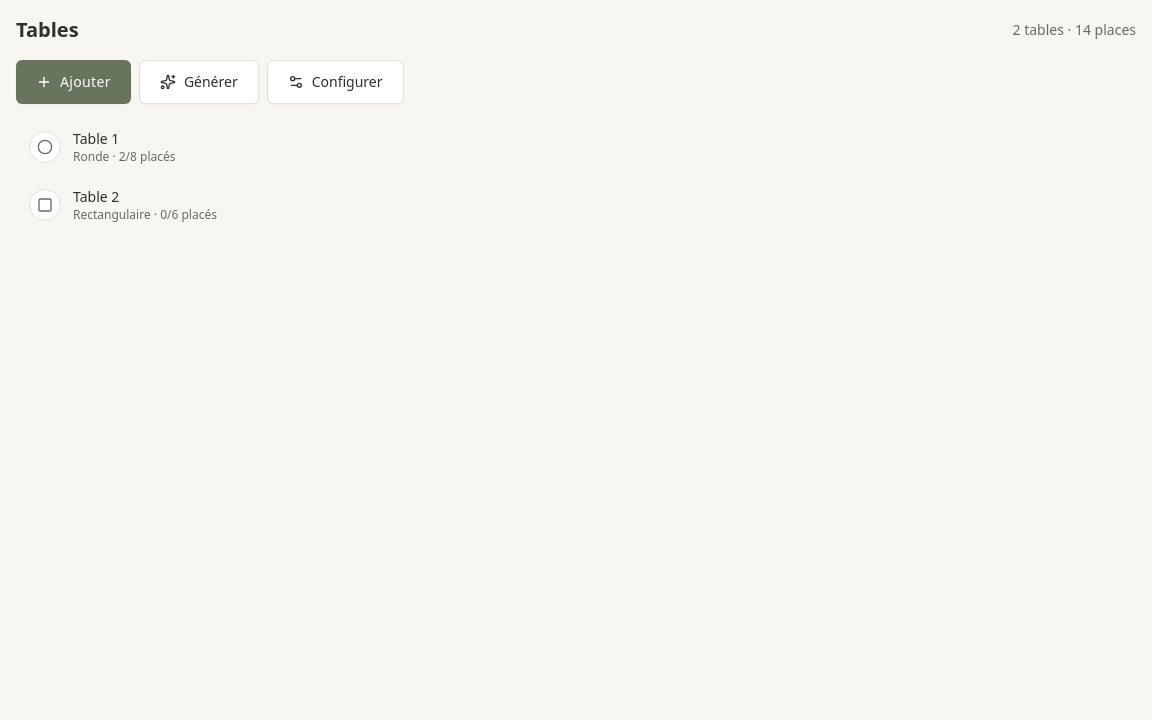
Scenario: TablesPanel › edits the selected table through the detail Configurer action
Click the button "Table 2 Rectangulaire · 0/6 placés". click: (45, 205)
box: [17,179,1087,231]
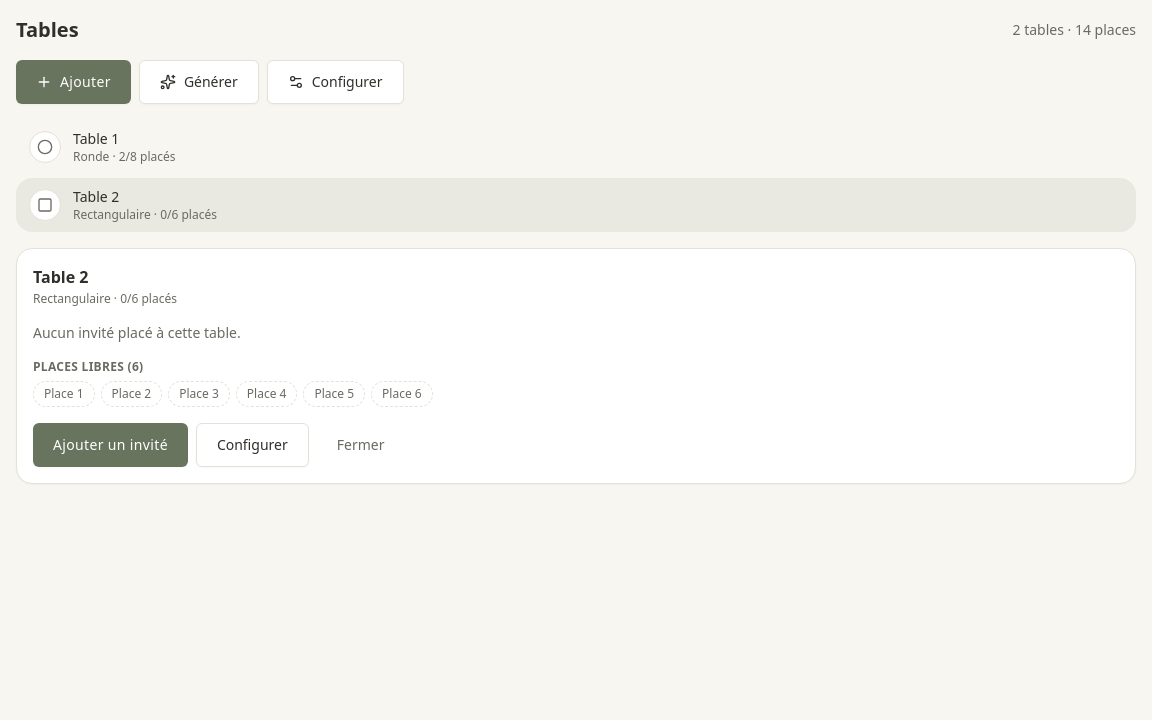
Expected: the element named "Détails de la table" is shown, [16,248,1136,484]
Click the button "Configurer" below "Place 1". click: (252, 445)
box: [196,423,309,467]
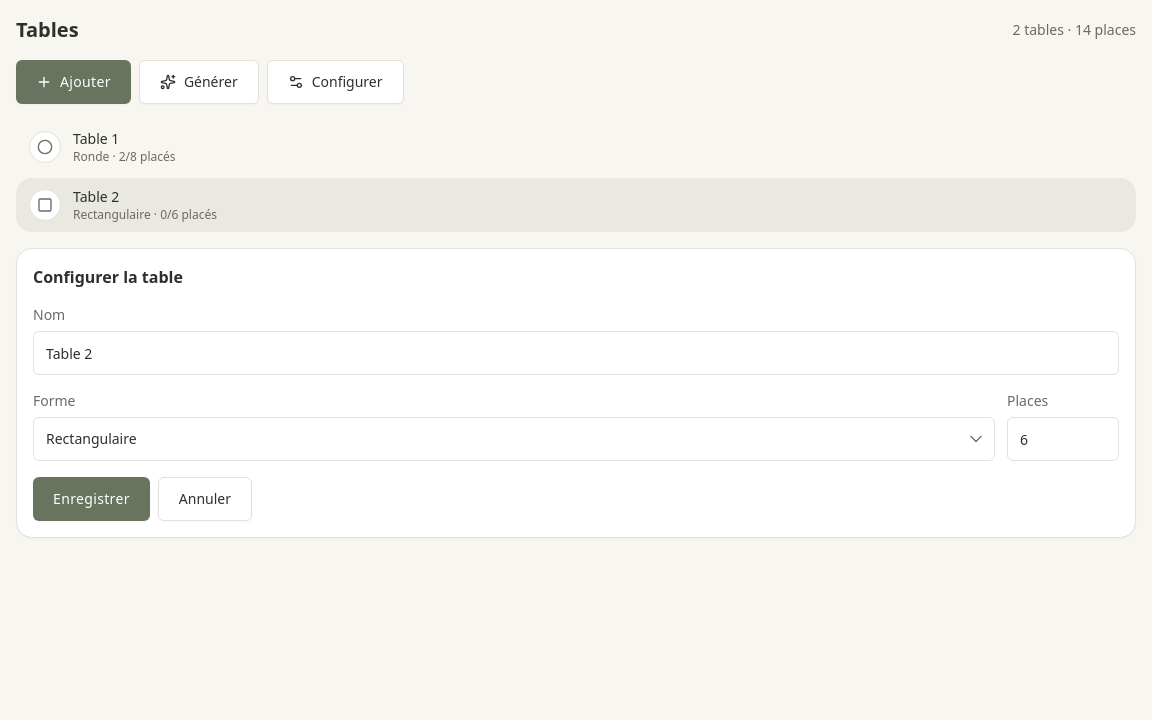
Expected: the heading "Configurer la table" is shown, [33,266,183,288]
Replace the text in the field labelled "Nom" with "Table VIP". click: (576, 353)
box: [33,331,1119,375]
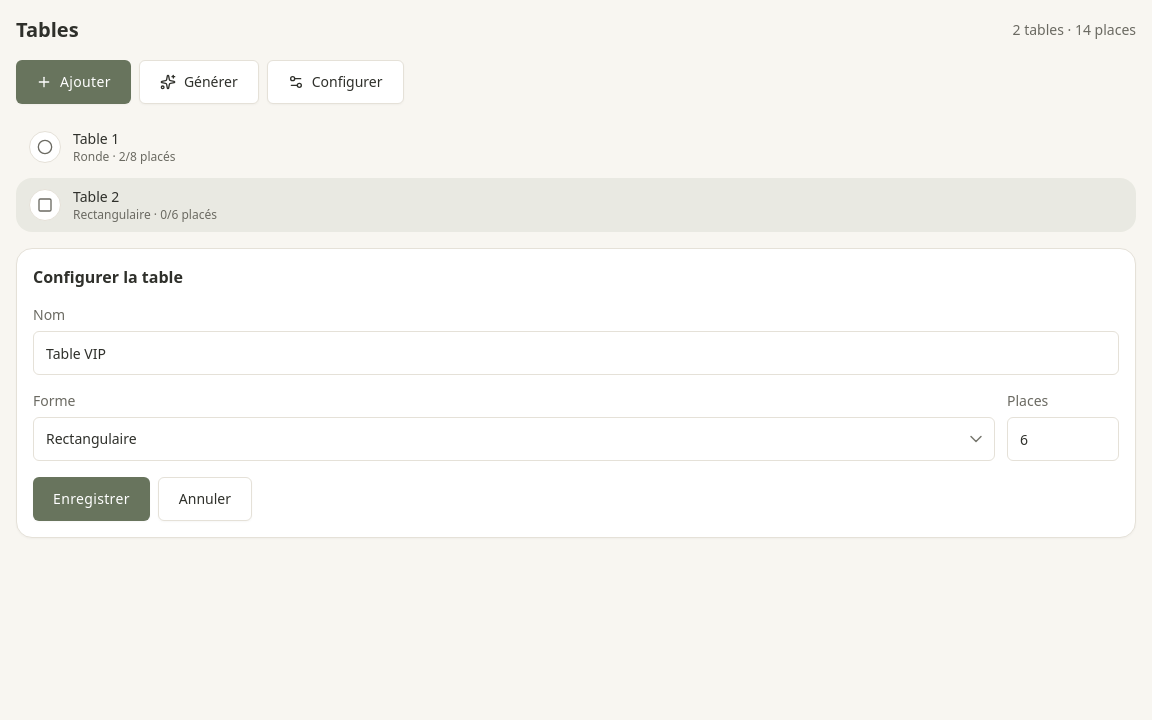
Submit the form, box [33,265,1119,521]
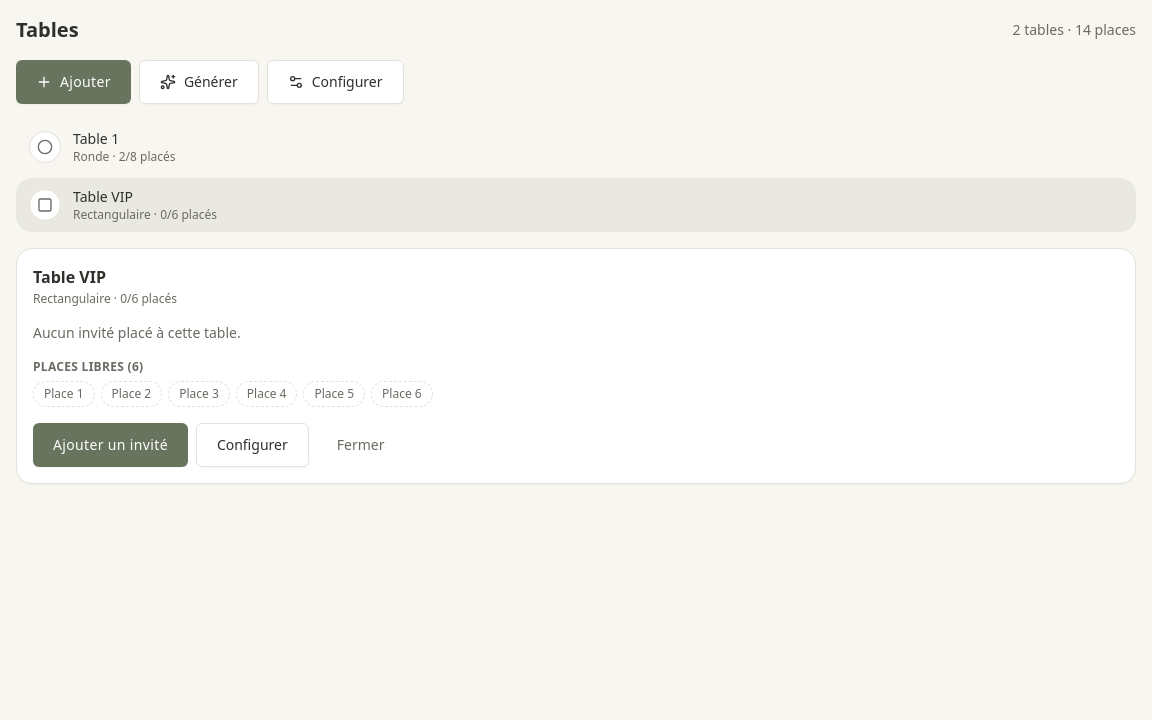
Expected: the button "Table VIP Rectangulaire · 0/6 placés" is shown, [17,179,1087,231]
Expected: the button "Table 2" is gone
